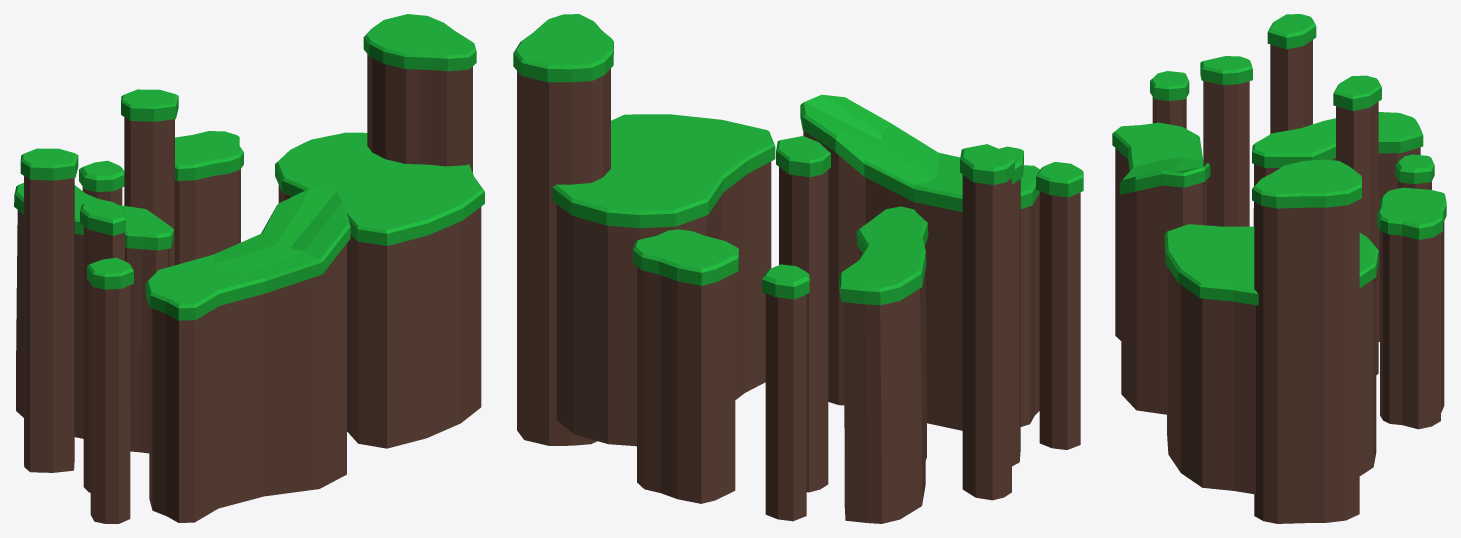
File: test-level.glb
3 views of the same model, side by side, from view 1: azimuth 30°, elevation 25°; view 2: azimuth 150°, elevation 25°; view 3: azimuth 270°, elevation 25° (orthographic). The views are drawn at different scales.
Visible parts, largest first — view 1: Platform-col.007, Platform-col.008, Platform-col.006, Platform-col.002, Platform-col.003, Platform-col.001, Platform-col.005, Platform-col.009, Platform-col.004, Platform-col; view 2: Platform-col.008, Platform-col.007, Platform-col.005, Platform-col.002, Platform-col.001, Platform-col.006, Platform-col.003, Platform-col.009, Platform-col, Platform-col.004; view 3: Platform-col.002, Platform-col.008, Platform-col.007, Platform-col.005, Platform-col.004, Platform-col.001, Platform-col.009, Platform-col.006, Platform-col.003, Platform-col.
Boxes of the visible parts, box(x1,y1,x2,y2) form: Platform-col.007: box(145, 187, 350, 522); Platform-col.008: box(275, 132, 484, 448); Platform-col.006: box(20, 148, 78, 472); Platform-col.002: box(363, 14, 476, 172); Platform-col.003: box(87, 257, 133, 523); Platform-col.001: box(14, 183, 174, 453); Platform-col.005: box(175, 131, 243, 265); Platform-col.009: box(121, 89, 178, 266); Platform-col.004: box(80, 199, 125, 492); Platform-col: box(79, 160, 124, 205); Platform-col.008: box(552, 114, 775, 446); Platform-col.007: box(800, 94, 1039, 430); Platform-col.005: box(633, 229, 738, 503); Platform-col.002: box(513, 14, 613, 445); Platform-col.001: box(838, 206, 928, 523); Platform-col.006: box(960, 144, 1014, 500); Platform-col.003: box(1036, 162, 1083, 449); Platform-col.009: box(776, 136, 830, 492); Platform-col: box(762, 264, 809, 521); Platform-col.004: box(999, 146, 1023, 466); Platform-col.002: box(1252, 159, 1361, 523); Platform-col.008: box(1164, 224, 1378, 494); Platform-col.007: box(1112, 122, 1210, 414); Platform-col.005: box(1377, 187, 1446, 429); Platform-col.004: box(1200, 56, 1252, 226); Platform-col.001: box(1252, 112, 1423, 341); Platform-col.009: box(1333, 75, 1381, 374); Platform-col.006: box(1267, 14, 1316, 133); Platform-col.003: box(1150, 71, 1189, 128); Platform-col: box(1395, 154, 1434, 189).
Bounding box in the file's own units: 16.36 × 12.54 × 11.52.
